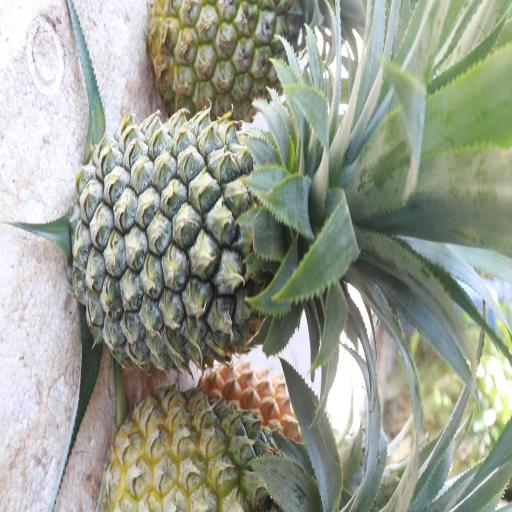------------------------------: (112, 377, 309, 512), (148, 0, 330, 119)
